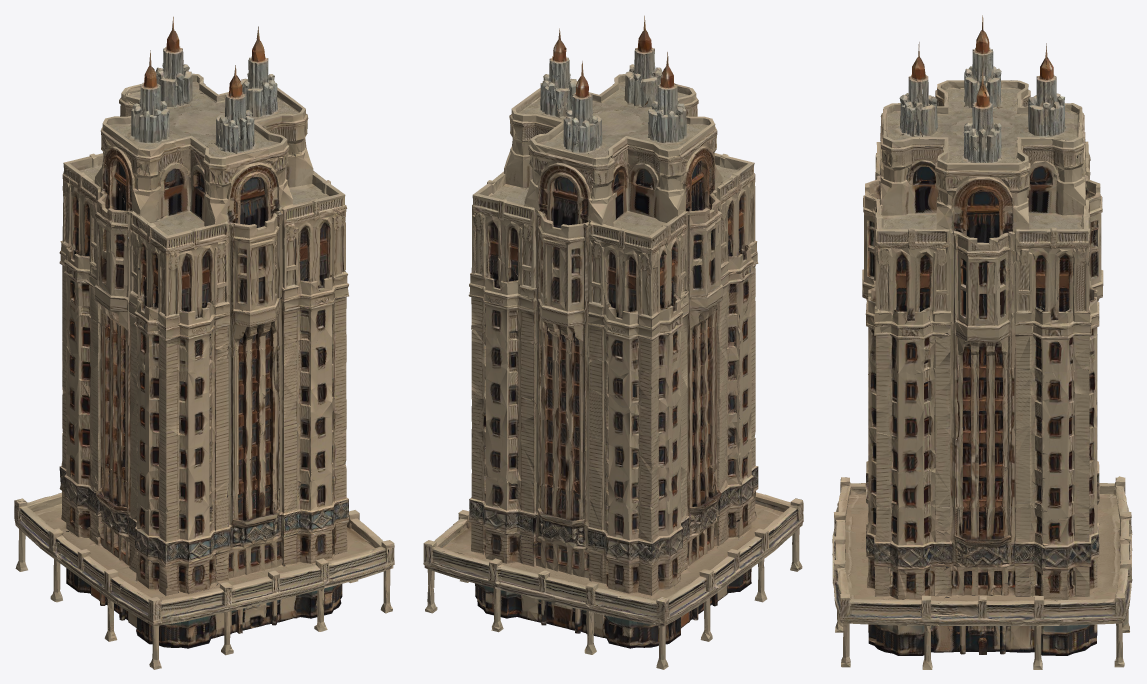
The model's file is JHB_HeroBuilding06_LOD0.fbx.
3 views of the same model, side by side, from view 1: azimuth 30°, elevation 25°; view 2: azimuth 150°, elevation 25°; view 3: azimuth 270°, elevation 25° (orthographic). The views are drawn at different scales.
Visible parts, largest first — view 1: JHB_HeroBuilding06_LOD0; view 2: JHB_HeroBuilding06_LOD0; view 3: JHB_HeroBuilding06_LOD0.
Part boxes in pixels (box(x1,y1,x2,y2)): JHB_HeroBuilding06_LOD0: box(14, 16, 394, 669); JHB_HeroBuilding06_LOD0: box(423, 15, 803, 669); JHB_HeroBuilding06_LOD0: box(832, 15, 1132, 669).
Bounding box in the file's own units: 8.59 × 18.01 × 8.64.
